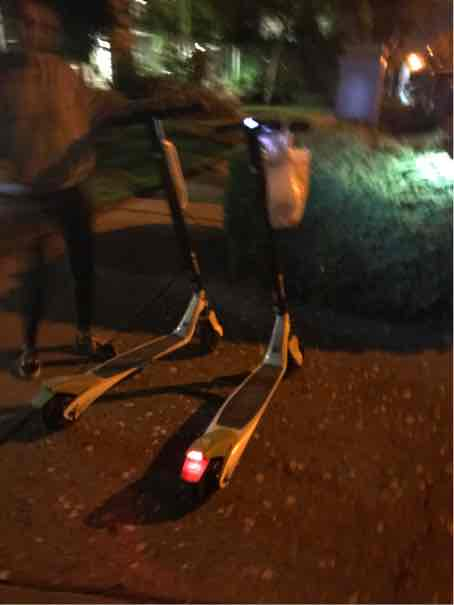scooter: (39, 100, 234, 442), (161, 108, 324, 510)
